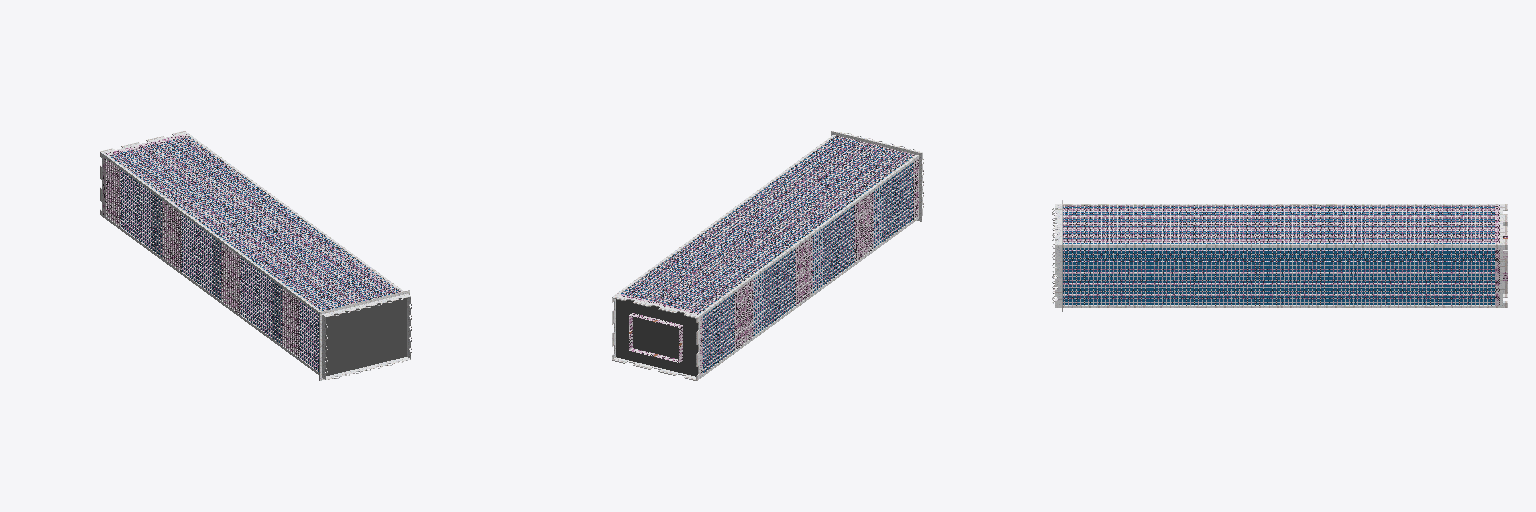
3 renders of one model, left to right at view 1: azimuth 30°, elevation 25°; view 2: azimuth 150°, elevation 25°; view 3: azimuth 270°, elevation 25°, orthographic.
Visible parts, largest first — view 1: wall_1_01, wall_1_03, wall_1_02, glaz_01, slab_01, wall_01, wall_02; view 2: wall_1_01, wall_1_03, wall_1_02, glaz_01, slab_new_01, wall_01, wall_02, wall_2_01; view 3: wall_1_01, glaz_01, wall_1_02, wall_1_03, wall_01, wall_02.
Boxes of the visible parts, x1=… form: wall_1_01: x1=103, y1=136, x2=397, y2=369; wall_1_03: x1=106, y1=134, x2=399, y2=310; wall_1_02: x1=103, y1=157, x2=317, y2=370; glaz_01: x1=111, y1=138, x2=397, y2=371; slab_01: x1=325, y1=298, x2=406, y2=375; wall_01: x1=103, y1=133, x2=402, y2=374; wall_02: x1=100, y1=131, x2=411, y2=380; wall_1_01: x1=622, y1=136, x2=917, y2=370; wall_1_03: x1=619, y1=136, x2=914, y2=314; wall_1_02: x1=700, y1=158, x2=918, y2=375; glaz_01: x1=621, y1=137, x2=912, y2=372; slab_new_01: x1=616, y1=299, x2=697, y2=376; wall_01: x1=615, y1=135, x2=918, y2=378; wall_02: x1=612, y1=131, x2=923, y2=380; wall_2_01: x1=629, y1=313, x2=682, y2=362; wall_1_01: x1=1063, y1=206, x2=1499, y2=302; glaz_01: x1=1063, y1=207, x2=1494, y2=304; wall_1_02: x1=1064, y1=248, x2=1499, y2=305; wall_1_03: x1=1064, y1=205, x2=1499, y2=243; wall_01: x1=1063, y1=204, x2=1499, y2=307; wall_02: x1=1052, y1=200, x2=1507, y2=311.
Size of the model in its own units: 1276 by 927 by 5573.
5 materials, 2 textured.